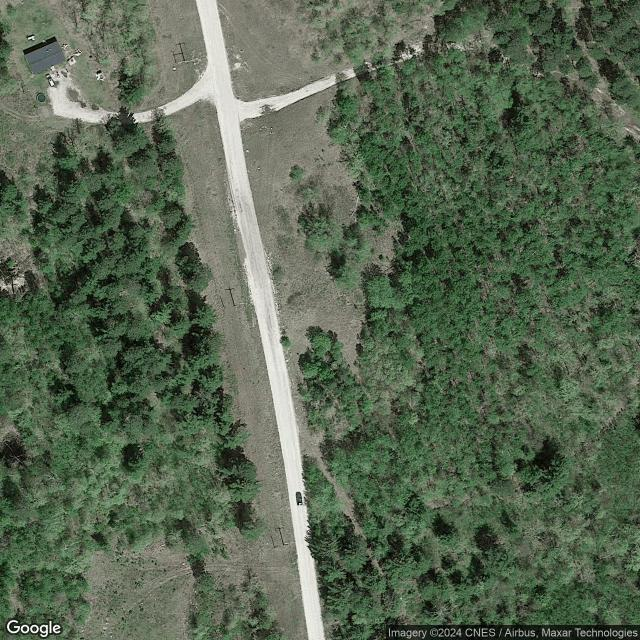Propane: (25, 33, 37, 41)
